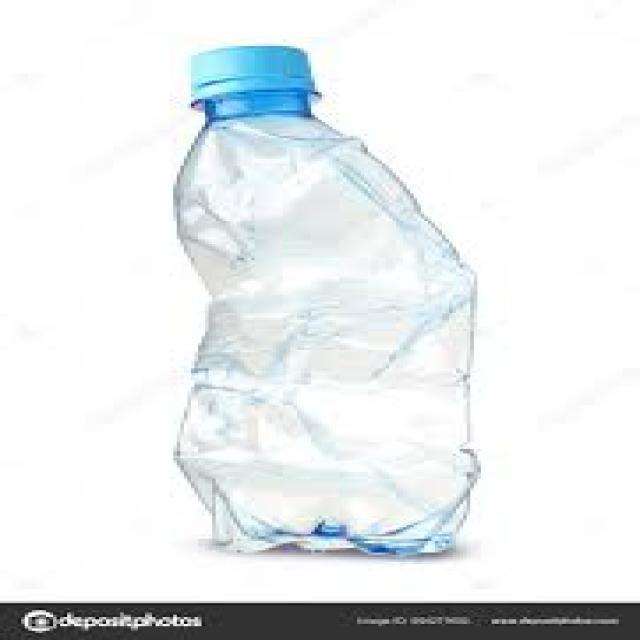bottle: (144, 28, 523, 564)
cap: (178, 38, 328, 115)
